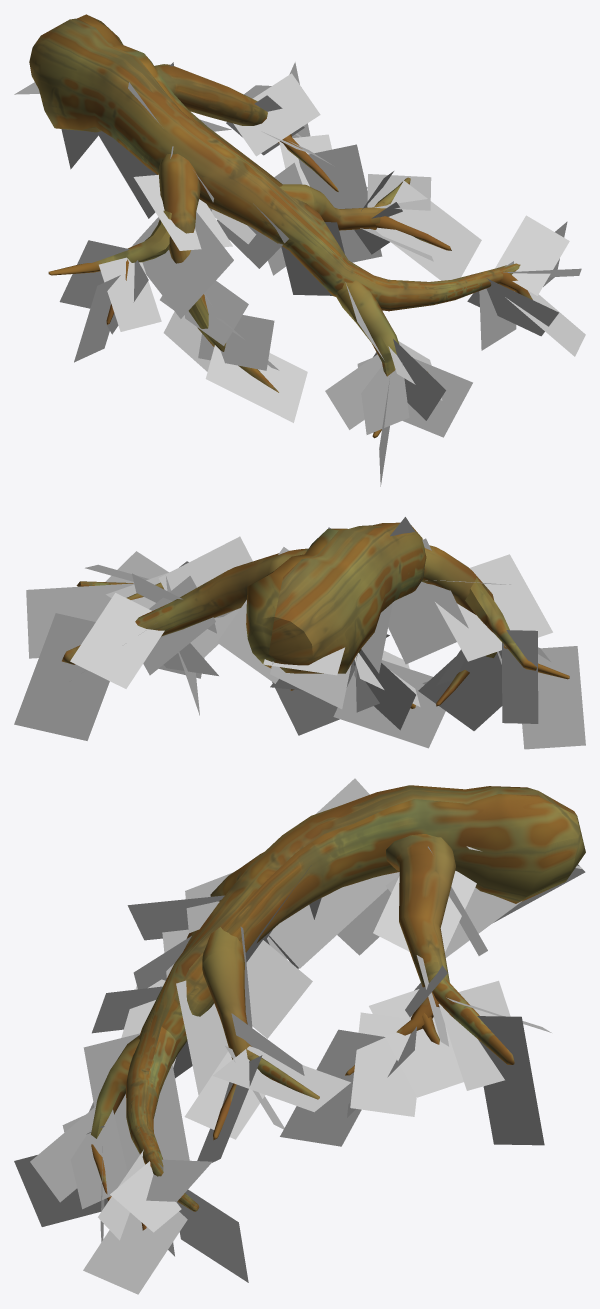
Rendered from env_forest_gianttree_root02_lod0.fbx.
The picture shows the model from 3 angles, top to bottom: view 1: azimuth 30°, elevation 25°; view 2: azimuth 150°, elevation 25°; view 3: azimuth 270°, elevation 25°; orthographic projection. The views are drawn at different scales.
Parts seen in each view (by area): view 1: root02_lod0; view 2: root02_lod0; view 3: root02_lod0.
Boxes of the visible parts, x1,y1,x2,y2 form: root02_lod0: [14, 14, 585, 486]; root02_lod0: [14, 517, 585, 749]; root02_lod0: [14, 778, 585, 1294].
Size of the model in its own units: 65.15 by 41.74 by 56.
